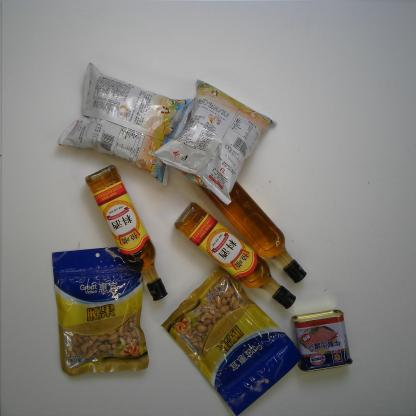Canned Food: (290, 305, 355, 375)
Dried Fruit: (159, 261, 303, 416), (50, 244, 152, 378)
Puffed Food: (56, 60, 194, 190), (145, 76, 278, 208)
Seasoner: (194, 167, 309, 285), (173, 200, 297, 309), (83, 162, 169, 303)
